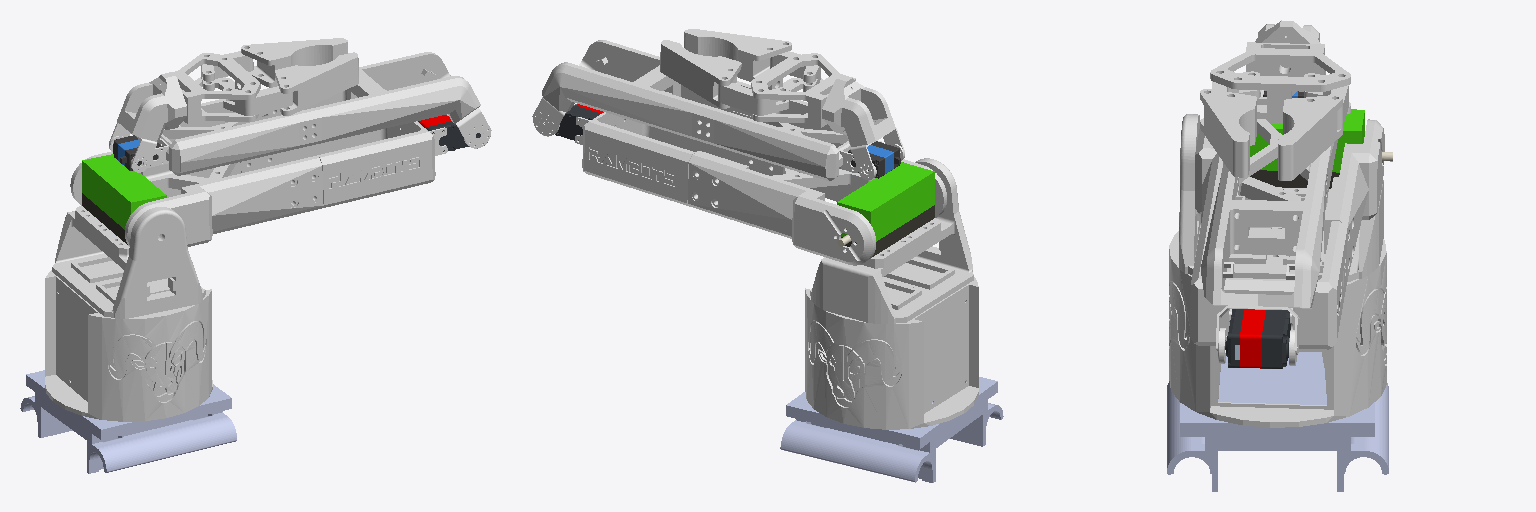
URDF robot description ([local-path]\Desktop\Rambot\Code\ArmBOTs\ARM\config):
<?xml version="1.0" ?>
<!-- Generated using onshape-to-robot -->
<!-- Onshape document_id: ed0e872bbb758166efdb31b7 / workspace_id: 5c06d4f3b8cf568559db2361 -->
<robot name="C:\Users\jntay\Desktop\Rambot\Code\ArmBOTs\ARM\config">
  <!-- Link front_base_mount -->
  <link name="front_base_mount">
    <inertial>
      <origin xyz="0 0 0" rpy="0 0 0"/>
      <mass value="1e-09"/>
      <inertia ixx="1e-09" ixy="0" ixz="0" iyy="1e-09" iyz="0" izz="1e-09"/>
    </inertial>
    <!-- Part front_base_mount -->
    <visual>
      <origin xyz="0.08 0 -0.018741" rpy="0 -0 1.5708"/>
      <geometry>
        <mesh filename="package://assets\front_base_mount.stl"/>
      </geometry>
      <material name="front_base_mount_material">
        <color rgba="0.792157 0.819608 0.933333 1"/>
      </material>
    </visual>
    <collision>
      <origin xyz="0.08 0 -0.018741" rpy="0 -0 1.5708"/>
      <geometry>
        <mesh filename="package://assets\front_base_mount.stl"/>
      </geometry>
    </collision>
  </link>
  <!-- Link link_swivel -->
  <link name="link_swivel">
    <inertial>
      <origin xyz="7.216e-09 0.00861058 0.206753" rpy="0 0 0"/>
      <mass value="0.711107"/>
      <inertia ixx="0.00171647" ixy="-2.4e-11" ixz="2.17e-10" iyy="0.000790493" iyz="-4.75539e-05" izz="0.0012676"/>
    </inertial>
    <!-- Part part_1 -->
    <visual>
      <origin xyz="-0 -0.0656 0.207" rpy="0 -0 0"/>
      <geometry>
        <mesh filename="package://assets\part_1.stl"/>
      </geometry>
      <material name="part_1_material">
        <color rgba="0.901961 0.901961 0.901961 1"/>
      </material>
    </visual>
    <collision>
      <origin xyz="-0 -0.0656 0.207" rpy="0 -0 0"/>
      <geometry>
        <mesh filename="package://assets\part_1.stl"/>
      </geometry>
    </collision>
    <!-- Part part_1_2 -->
    <visual>
      <origin xyz="0 -0 0" rpy="0 -0 0"/>
      <geometry>
        <mesh filename="package://assets\part_1__2.stl"/>
      </geometry>
      <material name="part_1_2_material">
        <color rgba="0.901961 0.901961 0.901961 1"/>
      </material>
    </visual>
    <collision>
      <origin xyz="0 -0 0" rpy="0 -0 0"/>
      <geometry>
        <mesh filename="package://assets\part_1__2.stl"/>
      </geometry>
    </collision>
    <!-- Part part_1_3 -->
    <visual>
      <origin xyz="-0 -0.048 0.186" rpy="0 -0 -3.14159"/>
      <geometry>
        <mesh filename="package://assets\part_1__3.stl"/>
      </geometry>
      <material name="part_1_3_material">
        <color rgba="0.301961 0.290196 0.262745 1"/>
      </material>
    </visual>
    <collision>
      <origin xyz="-0 -0.048 0.186" rpy="0 -0 -3.14159"/>
      <geometry>
        <mesh filename="package://assets\part_1__3.stl"/>
      </geometry>
    </collision>
    <!-- Part part_3 -->
    <visual>
      <origin xyz="-0 -0.048 0.186" rpy="0 -0 -3.14159"/>
      <geometry>
        <mesh filename="package://assets\part_3.stl"/>
      </geometry>
      <material name="part_3_material">
        <color rgba="0.901961 0.878431 0.811765 1"/>
      </material>
    </visual>
    <collision>
      <origin xyz="-0 -0.048 0.186" rpy="0 -0 -3.14159"/>
      <geometry>
        <mesh filename="package://assets\part_3.stl"/>
      </geometry>
    </collision>
    <!-- Part part_2 -->
    <visual>
      <origin xyz="-0 -0.048 0.186" rpy="0 -0 -3.14159"/>
      <geometry>
        <mesh filename="package://assets\part_2.stl"/>
      </geometry>
      <material name="part_2_material">
        <color rgba="0.333333 0.894118 0.105882 1"/>
      </material>
    </visual>
    <collision>
      <origin xyz="-0 -0.048 0.186" rpy="0 -0 -3.14159"/>
      <geometry>
        <mesh filename="package://assets\part_2.stl"/>
      </geometry>
    </collision>
  </link>
  <!-- Link link_shoulder -->
  <link name="link_shoulder">
    <inertial>
      <origin xyz="-3.23407e-06 0.163251 -0.000675836" rpy="0 0 0"/>
      <mass value="0.22478"/>
      <inertia ixx="0.00312179" ixy="-7.8369e-08" ixz="-4.06708e-06" iyy="0.000712602" iyz="-2.4524e-05" izz="0.00252321"/>
    </inertial>
    <!-- Part part_1_4 -->
    <visual>
      <origin xyz="0 -0 -0.000155" rpy="-1.5708 -1.5708 0"/>
      <geometry>
        <mesh filename="package://assets\part_1__4.stl"/>
      </geometry>
      <material name="part_1_4_material">
        <color rgba="0.901961 0.901961 0.901961 1"/>
      </material>
    </visual>
    <collision>
      <origin xyz="0 -0 -0.000155" rpy="-1.5708 -1.5708 0"/>
      <geometry>
        <mesh filename="package://assets\part_1__4.stl"/>
      </geometry>
    </collision>
    <!-- Part part_1_5 -->
    <visual>
      <origin xyz="-0.0375 -0.03 0.037655" rpy="-1.5708 -1.5708 0"/>
      <geometry>
        <mesh filename="package://assets\part_1__5.stl"/>
      </geometry>
      <material name="part_1_5_material">
        <color rgba="0.901961 0.901961 0.901961 1"/>
      </material>
    </visual>
    <collision>
      <origin xyz="-0.0375 -0.03 0.037655" rpy="-1.5708 -1.5708 0"/>
      <geometry>
        <mesh filename="package://assets\part_1__5.stl"/>
      </geometry>
    </collision>
    <!-- Part part_1_6 -->
    <visual>
      <origin xyz="0.00845229 0.151369 -0.053655" rpy="-1.5708 0 -0"/>
      <geometry>
        <mesh filename="package://assets\part_1__6.stl"/>
      </geometry>
      <material name="part_1_6_material">
        <color rgba="0.901961 0.901961 0.901961 1"/>
      </material>
    </visual>
    <collision>
      <origin xyz="0.00845229 0.151369 -0.053655" rpy="-1.5708 0 -0"/>
      <geometry>
        <mesh filename="package://assets\part_1__6.stl"/>
      </geometry>
    </collision>
    <!-- Part part_1_7 -->
    <visual>
      <origin xyz="-0.00845229 0.151369 0.053655" rpy="1.5708 -0 -3.14159"/>
      <geometry>
        <mesh filename="package://assets\part_1__7.stl"/>
      </geometry>
      <material name="part_1_7_material">
        <color rgba="0.901961 0.901961 0.901961 1"/>
      </material>
    </visual>
    <collision>
      <origin xyz="-0.00845229 0.151369 0.053655" rpy="1.5708 -0 -3.14159"/>
      <geometry>
        <mesh filename="package://assets\part_1__7.stl"/>
      </geometry>
    </collision>
    <!-- Part support_large_v7 -->
    <visual>
      <origin xyz="-0.015 0.3405 0.026" rpy="1.5708 1.5708 0"/>
      <geometry>
        <mesh filename="package://assets\support_large_v7.stl"/>
      </geometry>
      <material name="support_large_v7_material">
        <color rgba="0.960784 0.960784 0.964706 1"/>
      </material>
    </visual>
    <collision>
      <origin xyz="-0.015 0.3405 0.026" rpy="1.5708 1.5708 0"/>
      <geometry>
        <mesh filename="package://assets\support_large_v7.stl"/>
      </geometry>
    </collision>
    <!-- Part rds5160_v39 -->
    <visual>
      <origin xyz="0.0111633 0.381158 0.0177886" rpy="-1.5708 1.5708 0"/>
      <geometry>
        <mesh filename="package://assets\rds5160_v39.stl"/>
      </geometry>
      <material name="rds5160_v39_material">
        <color rgba="0.262745 0.282353 0.301961 1"/>
      </material>
    </visual>
    <collision>
      <origin xyz="0.0111633 0.381158 0.0177886" rpy="-1.5708 1.5708 0"/>
      <geometry>
        <mesh filename="package://assets\rds5160_v39.stl"/>
      </geometry>
    </collision>
    <!-- Part rds5160_v39_2 -->
    <visual>
      <origin xyz="0.0111633 0.381158 0.0177886" rpy="-1.5708 1.5708 0"/>
      <geometry>
        <mesh filename="package://assets\rds5160_v39__2.stl"/>
      </geometry>
      <material name="rds5160_v39_2_material">
        <color rgba="0.768627 0.886275 0.952941 1"/>
      </material>
    </visual>
    <collision>
      <origin xyz="0.0111633 0.381158 0.0177886" rpy="-1.5708 1.5708 0"/>
      <geometry>
        <mesh filename="package://assets\rds5160_v39__2.stl"/>
      </geometry>
    </collision>
    <!-- Part rds5160_v39_3 -->
    <visual>
      <origin xyz="0.0111633 0.381158 0.0177886" rpy="-1.5708 1.5708 0"/>
      <geometry>
        <mesh filename="package://assets\rds5160_v39__3.stl"/>
      </geometry>
      <material name="rds5160_v39_3_material">
        <color rgba="0.262745 0.282353 0.301961 1"/>
      </material>
    </visual>
    <collision>
      <origin xyz="0.0111633 0.381158 0.0177886" rpy="-1.5708 1.5708 0"/>
      <geometry>
        <mesh filename="package://assets\rds5160_v39__3.stl"/>
      </geometry>
    </collision>
    <!-- Part rds5160_v39_4 -->
    <visual>
      <origin xyz="0.0111633 0.381158 0.0177886" rpy="-1.5708 1.5708 0"/>
      <geometry>
        <mesh filename="package://assets\rds5160_v39__4.stl"/>
      </geometry>
      <material name="rds5160_v39_4_material">
        <color rgba="1 0 0 1"/>
      </material>
    </visual>
    <collision>
      <origin xyz="0.0111633 0.381158 0.0177886" rpy="-1.5708 1.5708 0"/>
      <geometry>
        <mesh filename="package://assets\rds5160_v39__4.stl"/>
      </geometry>
    </collision>
  </link>
  <!-- Link link_elbow -->
  <link name="link_elbow">
    <inertial>
      <origin xyz="0.123884 -0.136033 -0.00025279" rpy="0 0 0"/>
      <mass value="0.144964"/>
      <inertia ixx="0.00148803" ixy="0.000635309" ixz="5.96286e-07" iyy="0.000496859" iyz="-9.0577e-07" izz="0.0016468"/>
    </inertial>
    <!-- Part part_1_8 -->
    <visual>
      <origin xyz="0.131601 -0.149616 0.0362" rpy="1.13446 1.5708 0"/>
      <geometry>
        <mesh filename="package://assets\part_1__8.stl"/>
      </geometry>
      <material name="part_1_8_material">
        <color rgba="0.901961 0.901961 0.901961 1"/>
      </material>
    </visual>
    <collision>
      <origin xyz="0.131601 -0.149616 0.0362" rpy="1.13446 1.5708 0"/>
      <geometry>
        <mesh filename="package://assets\part_1__8.stl"/>
      </geometry>
    </collision>
    <!-- Part part_1_9 -->
    <visual>
      <origin xyz="0.033 -0.0025 0.0427" rpy="1.5708 1.5708 0"/>
      <geometry>
        <mesh filename="package://assets\part_1__9.stl"/>
      </geometry>
      <material name="part_1_9_material">
        <color rgba="0.901961 0.901961 0.901961 1"/>
      </material>
    </visual>
    <collision>
      <origin xyz="0.033 -0.0025 0.0427" rpy="1.5708 1.5708 0"/>
      <geometry>
        <mesh filename="package://assets\part_1__9.stl"/>
      </geometry>
    </collision>
    <!-- Part wheel_gear_v6 -->
    <visual>
      <origin xyz="-0 0 0.02655" rpy="1.5708 0 2.58485"/>
      <geometry>
        <mesh filename="package://assets\wheel_gear_v6.stl"/>
      </geometry>
      <material name="wheel_gear_v6_material">
        <color rgba="0.960784 0.960784 0.964706 1"/>
      </material>
    </visual>
    <collision>
      <origin xyz="-0 0 0.02655" rpy="1.5708 0 2.58485"/>
      <geometry>
        <mesh filename="package://assets\wheel_gear_v6.stl"/>
      </geometry>
    </collision>
    <!-- Part support_small_v2 -->
    <visual>
      <origin xyz="0.216841 -0.308752 -0.0003" rpy="2.70526 1.5708 0"/>
      <geometry>
        <mesh filename="package://assets\support_small_v2.stl"/>
      </geometry>
      <material name="support_small_v2_material">
        <color rgba="0.960784 0.960784 0.964706 1"/>
      </material>
    </visual>
    <collision>
      <origin xyz="0.216841 -0.308752 -0.0003" rpy="2.70526 1.5708 0"/>
      <geometry>
        <mesh filename="package://assets\support_small_v2.stl"/>
      </geometry>
    </collision>
    <!-- Part wheel_v5 -->
    <visual>
      <origin xyz="0 -0 -0.02655" rpy="-1.5708 0 -0"/>
      <geometry>
        <mesh filename="package://assets\wheel_v5.stl"/>
      </geometry>
      <material name="wheel_v5_material">
        <color rgba="0.960784 0.960784 0.964706 1"/>
      </material>
    </visual>
    <collision>
      <origin xyz="0 -0 -0.02655" rpy="-1.5708 0 -0"/>
      <geometry>
        <mesh filename="package://assets\wheel_v5.stl"/>
      </geometry>
    </collision>
    <!-- Part part_1_10 -->
    <visual>
      <origin xyz="0.131601 -0.149616 -0.0368" rpy="2.00713 -1.5708 0"/>
      <geometry>
        <mesh filename="package://assets\part_1__8.stl"/>
      </geometry>
      <material name="part_1_10_material">
        <color rgba="0.901961 0.901961 0.901961 1"/>
      </material>
    </visual>
    <collision>
      <origin xyz="0.131601 -0.149616 -0.0368" rpy="2.00713 -1.5708 0"/>
      <geometry>
        <mesh filename="package://assets\part_1__8.stl"/>
      </geometry>
    </collision>
    <!-- Part rds3235_v9 -->
    <visual>
      <origin xyz="0.222526 -0.320942 -0.0003" rpy="1.5708 0 -1.13446"/>
      <geometry>
        <mesh filename="package://assets\rds3235_v9.stl"/>
      </geometry>
      <material name="rds3235_v9_material">
        <color rgba="0.270588 0.572549 0.913725 1"/>
      </material>
    </visual>
    <collision>
      <origin xyz="0.222526 -0.320942 -0.0003" rpy="1.5708 0 -1.13446"/>
      <geometry>
        <mesh filename="package://assets\rds3235_v9.stl"/>
      </geometry>
    </collision>
    <!-- Part rds3235_v9_2 -->
    <visual>
      <origin xyz="0.222526 -0.320942 -0.0003" rpy="1.5708 0 -1.13446"/>
      <geometry>
        <mesh filename="package://assets\rds3235_v9__2.stl"/>
      </geometry>
      <material name="rds3235_v9_2_material">
        <color rgba="0.313725 0.305882 0.305882 1"/>
      </material>
    </visual>
    <collision>
      <origin xyz="0.222526 -0.320942 -0.0003" rpy="1.5708 0 -1.13446"/>
      <geometry>
        <mesh filename="package://assets\rds3235_v9__2.stl"/>
      </geometry>
    </collision>
    <!-- Part part_1_11 -->
    <visual>
      <origin xyz="0.033 -0.0025 -0.0303" rpy="1.5708 1.5708 0"/>
      <geometry>
        <mesh filename="package://assets\part_1__10.stl"/>
      </geometry>
      <material name="part_1_11_material">
        <color rgba="0.901961 0.901961 0.901961 1"/>
      </material>
    </visual>
    <collision>
      <origin xyz="0.033 -0.0025 -0.0303" rpy="1.5708 1.5708 0"/>
      <geometry>
        <mesh filename="package://assets\part_1__10.stl"/>
      </geometry>
    </collision>
    <!-- Part rds3235_v9_3 -->
    <visual>
      <origin xyz="0.222526 -0.320942 -0.0003" rpy="1.5708 0 -1.13446"/>
      <geometry>
        <mesh filename="package://assets\rds3235_v9__3.stl"/>
      </geometry>
      <material name="rds3235_v9_3_material">
        <color rgba="0.313725 0.305882 0.305882 1"/>
      </material>
    </visual>
    <collision>
      <origin xyz="0.222526 -0.320942 -0.0003" rpy="1.5708 0 -1.13446"/>
      <geometry>
        <mesh filename="package://assets\rds3235_v9__3.stl"/>
      </geometry>
    </collision>
    <!-- Part support_large_2_v8 -->
    <visual>
      <origin xyz="0.033 0.015 -0.03355" rpy="-3.14159 -1.5708 0"/>
      <geometry>
        <mesh filename="package://assets\support_large_2_v8.stl"/>
      </geometry>
      <material name="support_large_2_v8_material">
        <color rgba="0.960784 0.960784 0.964706 1"/>
      </material>
    </visual>
    <collision>
      <origin xyz="0.033 0.015 -0.03355" rpy="-3.14159 -1.5708 0"/>
      <geometry>
        <mesh filename="package://assets\support_large_2_v8.stl"/>
      </geometry>
    </collision>
  </link>
  <!-- Link link_wrist -->
  <link name="link_wrist">
    <inertial>
      <origin xyz="0 0 0" rpy="0 0 0"/>
      <mass value="1e-09"/>
      <inertia ixx="1e-09" ixy="0" ixz="0" iyy="1e-09" iyz="0" izz="1e-09"/>
    </inertial>
    <!-- Part wheel_gear_v2 -->
    <visual>
      <origin xyz="2.62035e-06 2.2736e-08 0.0265" rpy="-3.14159 -0 -0"/>
      <geometry>
        <mesh filename="package://assets\wheel_gear_v2.stl"/>
      </geometry>
      <material name="wheel_gear_v2_material">
        <color rgba="0.960784 0.960784 0.964706 1"/>
      </material>
    </visual>
    <collision>
      <origin xyz="2.62035e-06 2.2736e-08 0.0265" rpy="-3.14159 -0 -0"/>
      <geometry>
        <mesh filename="package://assets\wheel_gear_v2.stl"/>
      </geometry>
    </collision>
    <!-- Part wheel_v1 -->
    <visual>
      <origin xyz="0 0 -0.0265" rpy="0 -0 -1.5708"/>
      <geometry>
        <mesh filename="package://assets\wheel_v1.stl"/>
      </geometry>
      <material name="wheel_v1_material">
        <color rgba="0.960784 0.960784 0.964706 1"/>
      </material>
    </visual>
    <collision>
      <origin xyz="0 0 -0.0265" rpy="0 -0 -1.5708"/>
      <geometry>
        <mesh filename="package://assets\wheel_v1.stl"/>
      </geometry>
    </collision>
    <!-- Part support_large_v4 -->
    <visual>
      <origin xyz="-0.00993359 -0.00844969 0" rpy="0 1.5708 0"/>
      <geometry>
        <mesh filename="package://assets\support_large_v4.stl"/>
      </geometry>
      <material name="support_large_v4_material">
        <color rgba="0.960784 0.960784 0.964706 1"/>
      </material>
    </visual>
    <collision>
      <origin xyz="-0.00993359 -0.00844969 0" rpy="0 1.5708 0"/>
      <geometry>
        <mesh filename="package://assets\support_large_v4.stl"/>
      </geometry>
    </collision>
    <!-- Part wristlinkhead1 -->
    <visual>
      <origin xyz="-0.0336512 -0.0181757 -0.0172342" rpy="3.14159 -1.5708 0"/>
      <geometry>
        <mesh filename="package://assets\wristlinkhead1.stl"/>
      </geometry>
      <material name="wristlinkhead1_material">
        <color rgba="0.901961 0.901961 0.901961 1"/>
      </material>
    </visual>
    <collision>
      <origin xyz="-0.0336512 -0.0181757 -0.0172342" rpy="3.14159 -1.5708 0"/>
      <geometry>
        <mesh filename="package://assets\wristlinkhead1.stl"/>
      </geometry>
    </collision>
    <!-- Part wristlinkbase1 -->
    <visual>
      <origin xyz="-0.0336512 -0.0181757 -0.0172342" rpy="3.14159 -1.5708 0"/>
      <geometry>
        <mesh filename="package://assets\wristlinkbase1.stl"/>
      </geometry>
      <material name="wristlinkbase1_material">
        <color rgba="0.901961 0.901961 0.901961 1"/>
      </material>
    </visual>
    <collision>
      <origin xyz="-0.0336512 -0.0181757 -0.0172342" rpy="3.14159 -1.5708 0"/>
      <geometry>
        <mesh filename="package://assets\wristlinkbase1.stl"/>
      </geometry>
    </collision>
    <!-- Part part5 -->
    <visual>
      <origin xyz="0.0355118 -0.0548151 0.032" rpy="-3.14159 0 -0.436332"/>
      <geometry>
        <mesh filename="package://assets\part5.stl"/>
      </geometry>
      <material name="part5_material">
        <color rgba="0.901961 0.901961 0.901961 1"/>
      </material>
    </visual>
    <collision>
      <origin xyz="0.0355118 -0.0548151 0.032" rpy="-3.14159 0 -0.436332"/>
      <geometry>
        <mesh filename="package://assets\part5.stl"/>
      </geometry>
    </collision>
    <!-- Part part4 -->
    <visual>
      <origin xyz="0.0355118 -0.0548151 0.032" rpy="-3.14159 0 -0.436332"/>
      <geometry>
        <mesh filename="package://assets\part4.stl"/>
      </geometry>
      <material name="part4_material">
        <color rgba="0.901961 0.901961 0.901961 1"/>
      </material>
    </visual>
    <collision>
      <origin xyz="0.0355118 -0.0548151 0.032" rpy="-3.14159 0 -0.436332"/>
      <geometry>
        <mesh filename="package://assets\part4.stl"/>
      </geometry>
    </collision>
    <!-- Part part5_2 -->
    <visual>
      <origin xyz="0.0355118 -0.0548151 0.032" rpy="-3.14159 0 -0.436332"/>
      <geometry>
        <mesh filename="package://assets\part5__2.stl"/>
      </geometry>
      <material name="part5_2_material">
        <color rgba="0.901961 0.901961 0.901961 1"/>
      </material>
    </visual>
    <collision>
      <origin xyz="0.0355118 -0.0548151 0.032" rpy="-3.14159 0 -0.436332"/>
      <geometry>
        <mesh filename="package://assets\part5__2.stl"/>
      </geometry>
    </collision>
    <!-- Part part1 -->
    <visual>
      <origin xyz="0.0355118 -0.0548151 0.032" rpy="-3.14159 0 -0.436332"/>
      <geometry>
        <mesh filename="package://assets\part1.stl"/>
      </geometry>
      <material name="part1_material">
        <color rgba="0.901961 0.901961 0.901961 1"/>
      </material>
    </visual>
    <collision>
      <origin xyz="0.0355118 -0.0548151 0.032" rpy="-3.14159 0 -0.436332"/>
      <geometry>
        <mesh filename="package://assets\part1.stl"/>
      </geometry>
    </collision>
    <!-- Part part4_2 -->
    <visual>
      <origin xyz="0.0355118 -0.0548151 0.032" rpy="-3.14159 0 -0.436332"/>
      <geometry>
        <mesh filename="package://assets\part4__2.stl"/>
      </geometry>
      <material name="part4_2_material">
        <color rgba="0.901961 0.901961 0.901961 1"/>
      </material>
    </visual>
    <collision>
      <origin xyz="0.0355118 -0.0548151 0.032" rpy="-3.14159 0 -0.436332"/>
      <geometry>
        <mesh filename="package://assets\part4__2.stl"/>
      </geometry>
    </collision>
  </link>
  <!-- Joint from link_elbow to link_wrist -->
  <joint name="wrist" type="revolute">
    <origin xyz="0.218111 -0.335137 -0.0003" rpy="-0 -0 2.43938"/>
    <parent link="link_elbow"/>
    <child link="link_wrist"/>
    <axis xyz="0 0 1"/>
    <limit effort="10" velocity="10" lower="-3.141592653589793" upper="3.141592653589793"/>
  </joint>
  <!-- Joint from link_shoulder to link_elbow -->
  <joint name="elbow" type="revolute">
    <origin xyz="0 0.4025 0" rpy="-0 0 -0.428842"/>
    <parent link="link_shoulder"/>
    <child link="link_elbow"/>
    <axis xyz="0 0 1"/>
    <limit effort="10" velocity="10" lower="-3.141592653589793" upper="3.141592653589793"/>
  </joint>
  <!-- Joint from link_swivel to link_shoulder -->
  <joint name="shoulder" type="revolute">
    <origin xyz="-0 0.011125 0.207" rpy="1.5708 -1.54057 3.14159"/>
    <parent link="link_swivel"/>
    <child link="link_shoulder"/>
    <axis xyz="0 0 1"/>
    <limit effort="10" velocity="10" lower="-3.141592653589793" upper="3.141592653589793"/>
  </joint>
  <!-- Joint from front_base_mount to link_swivel -->
  <joint name="swivel" type="revolute">
    <origin xyz="-0 0 0.0250008" rpy="-0 -0 -0.0684927"/>
    <parent link="front_base_mount"/>
    <child link="link_swivel"/>
    <axis xyz="0 0 1"/>
    <limit effort="10" velocity="10" lower="-3.141592653589793" upper="3.141592653589793"/>
  </joint>
</robot>

--- Facts derived from the render (not from the file) ---
Views: 3 orthographic renders of the robot side by side, from view 1: azimuth 30°, elevation 25°; view 2: azimuth 150°, elevation 25°; view 3: azimuth 270°, elevation 25°.
Robot: [local-path]\Desktop\Rambot\Code\ArmBOTs\ARM\config — 5 links, 4 joints (4 revolute); root link front_base_mount; default pose: all joints at 0.
Links seen in each view (by area): view 1: link_swivel, link_shoulder, link_elbow, link_wrist, front_base_mount; view 2: link_swivel, link_shoulder, link_elbow, link_wrist, front_base_mount; view 3: link_swivel, link_shoulder, link_wrist, link_elbow, front_base_mount.
Boxes of the visible links, box(x1,y1,x2,y2) form: link_swivel: box(45, 154, 212, 421); link_shoulder: box(70, 115, 480, 246); link_elbow: box(113, 52, 491, 175); link_wrist: box(109, 38, 358, 172); front_base_mount: box(20, 370, 236, 473); link_swivel: box(805, 158, 978, 429); link_shoulder: box(555, 104, 946, 265); link_elbow: box(532, 40, 900, 181); link_wrist: box(660, 29, 904, 179); front_base_mount: box(780, 377, 1003, 482); link_swivel: box(1169, 109, 1392, 427); link_shoulder: box(1190, 119, 1384, 368); link_wrist: box(1200, 20, 1350, 180); link_elbow: box(1201, 90, 1337, 365); front_base_mount: box(1167, 352, 1388, 491).
Bounding box of the posed robot: 0.5086 × 0.1862 × 0.411 m (x, y, z).
Meshes: 35 distinct files referenced, 36 mesh visuals loaded (35 binary STL).
